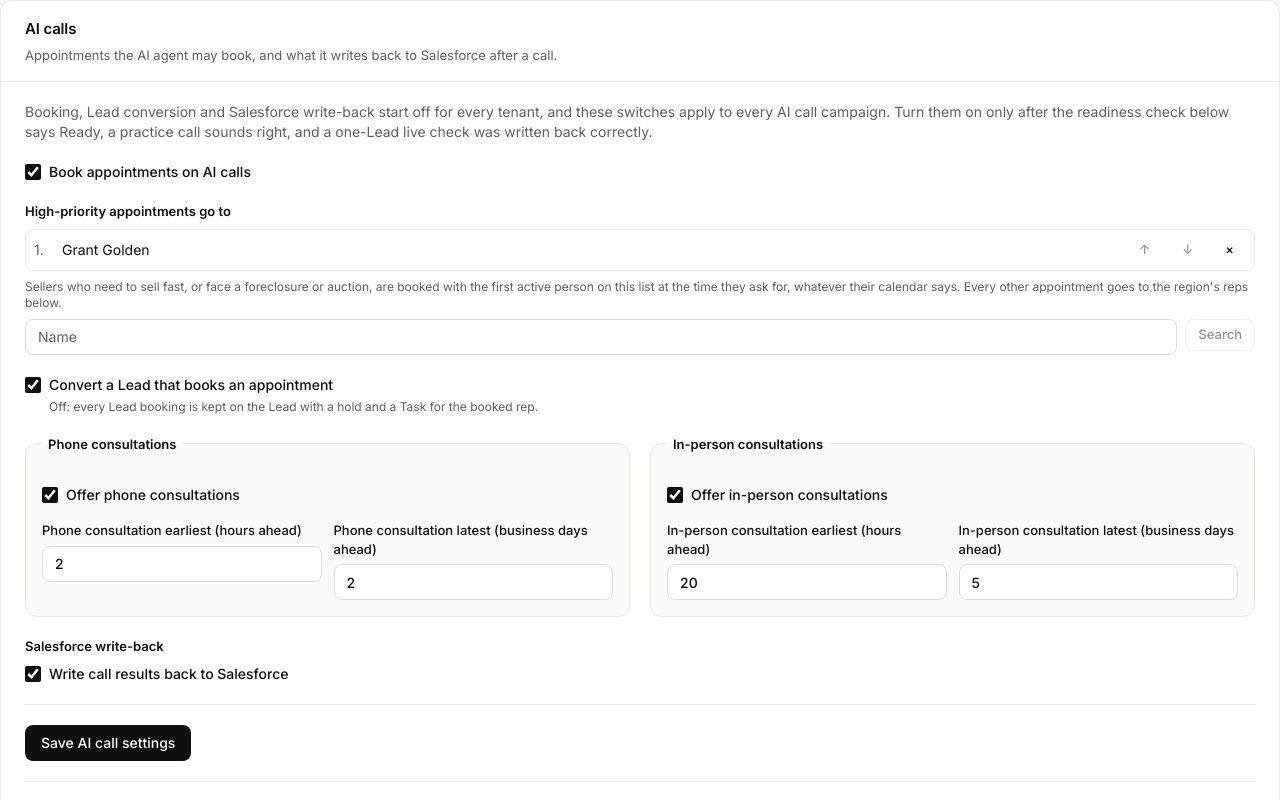
Scenario: AiCallSettingsCard › fix 2: booking needs write-back › unticking write-back unticks booking and disables it; ticking write-back again does not bring booking back
Expected: the checkbox labelled "Book appointments on AI calls" is checked, [25,164,41,180]
Step 1. Click the checkbox labelled "Write call results back to Salesforce" → x=33, y=674, box [25,666,41,682]
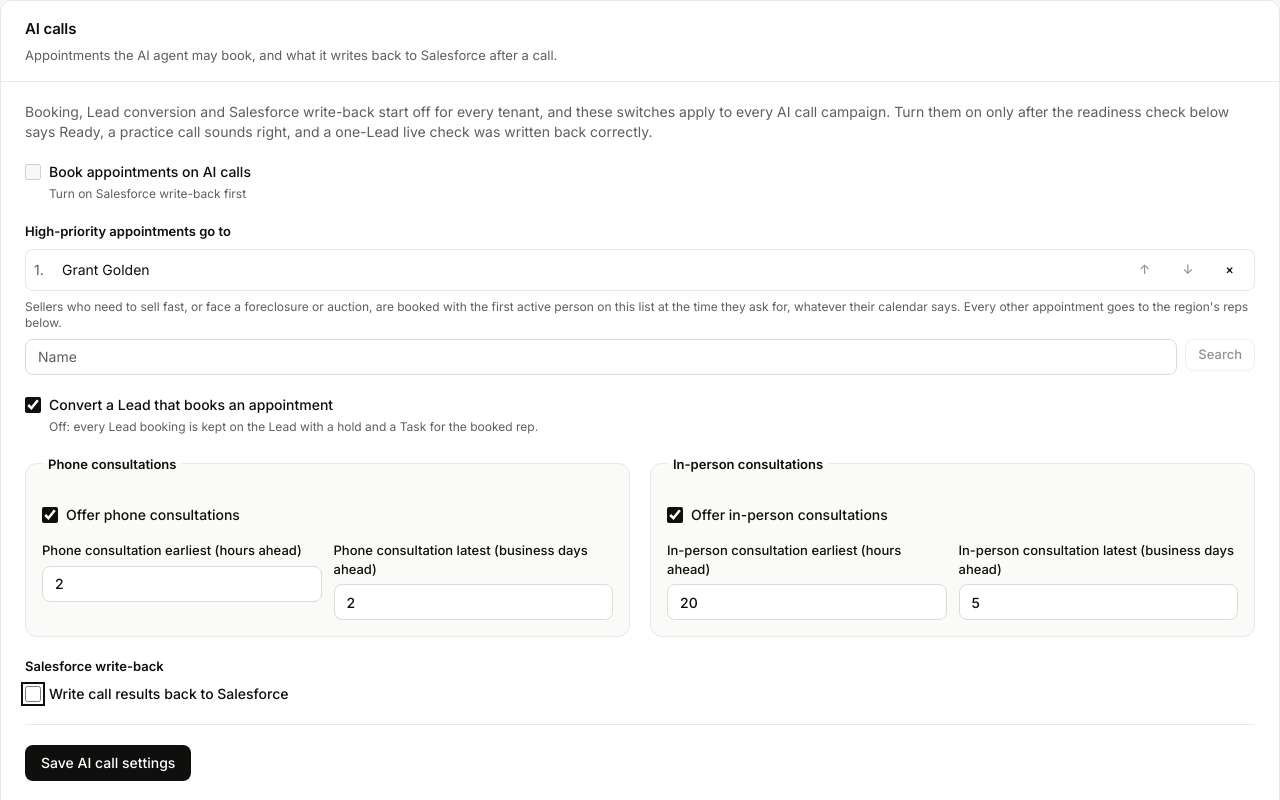
Expected: the checkbox labelled "Book appointments on AI calls" is not checked, [25,164,41,180]
Expected: the checkbox labelled "Book appointments on AI calls" is disabled, [25,164,41,180]
Step 2. Click the checkbox labelled "Write call results back to Salesforce" → x=33, y=694, box [25,686,41,702]
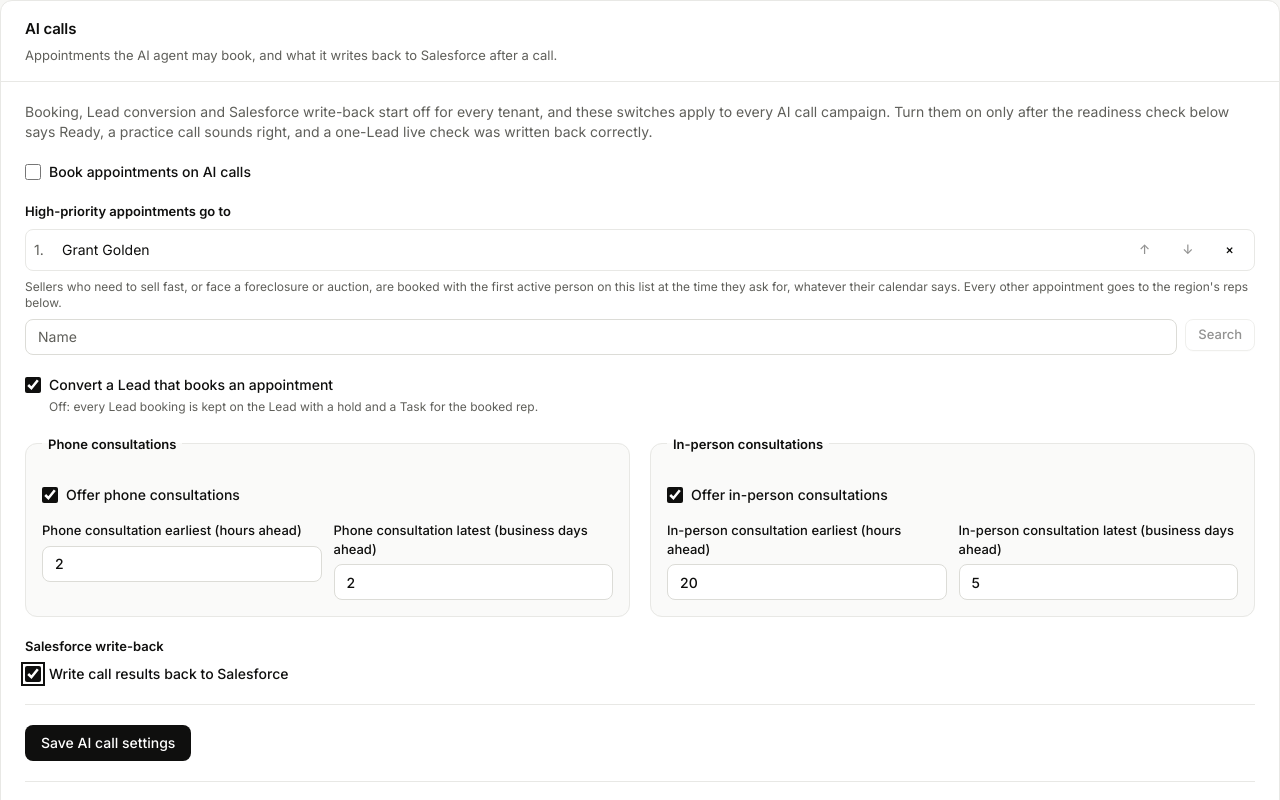
Expected: the checkbox labelled "Book appointments on AI calls" is not checked, [25,164,41,180]
Expected: the checkbox labelled "Book appointments on AI calls" is enabled, [25,164,41,180]
